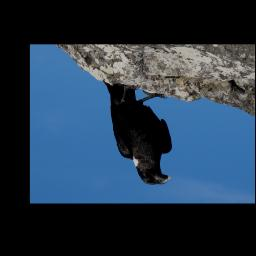Crow: (102, 79, 174, 187)
